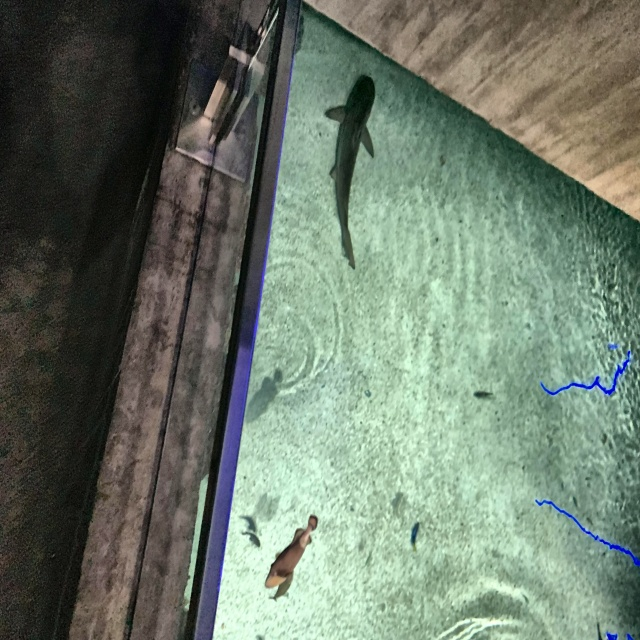fish: (262, 511, 323, 597), (244, 366, 287, 432), (270, 571, 293, 604), (407, 522, 422, 554), (473, 388, 496, 401)
shark: (323, 76, 376, 270)
